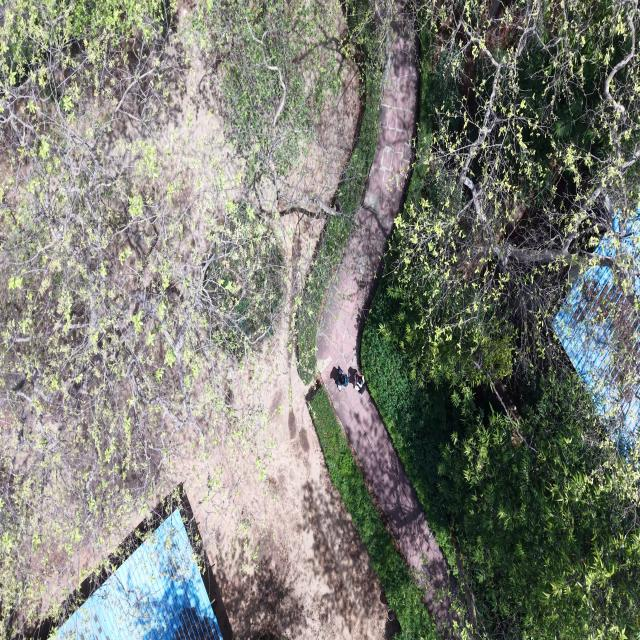DRY_AREA: (157, 61, 396, 639), (157, 210, 396, 639), (317, 20, 457, 630), (318, 25, 454, 625), (158, 322, 397, 639), (172, 307, 397, 639), (159, 326, 393, 639), (173, 307, 393, 639), (186, 323, 394, 639), (186, 331, 394, 639), (253, 0, 359, 215), (260, 60, 359, 215)
ROOFTOP_BUILDING: (55, 510, 222, 639), (554, 210, 639, 444)
VEGETATION_TREE: (0, 0, 391, 637), (0, 0, 341, 637), (362, 0, 639, 638), (362, 289, 639, 638), (388, 0, 639, 385), (439, 374, 639, 639), (294, 0, 383, 383), (309, 387, 439, 639), (185, 0, 349, 189), (294, 61, 381, 383), (361, 296, 460, 571)
